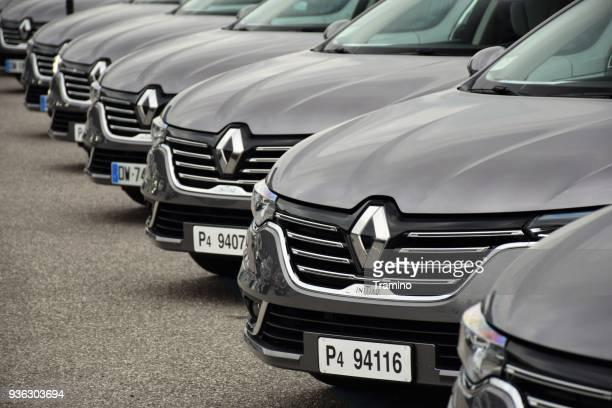Renault: (338, 196, 406, 277), (204, 117, 260, 185), (132, 84, 167, 129), (84, 60, 110, 91), (15, 14, 35, 42)
